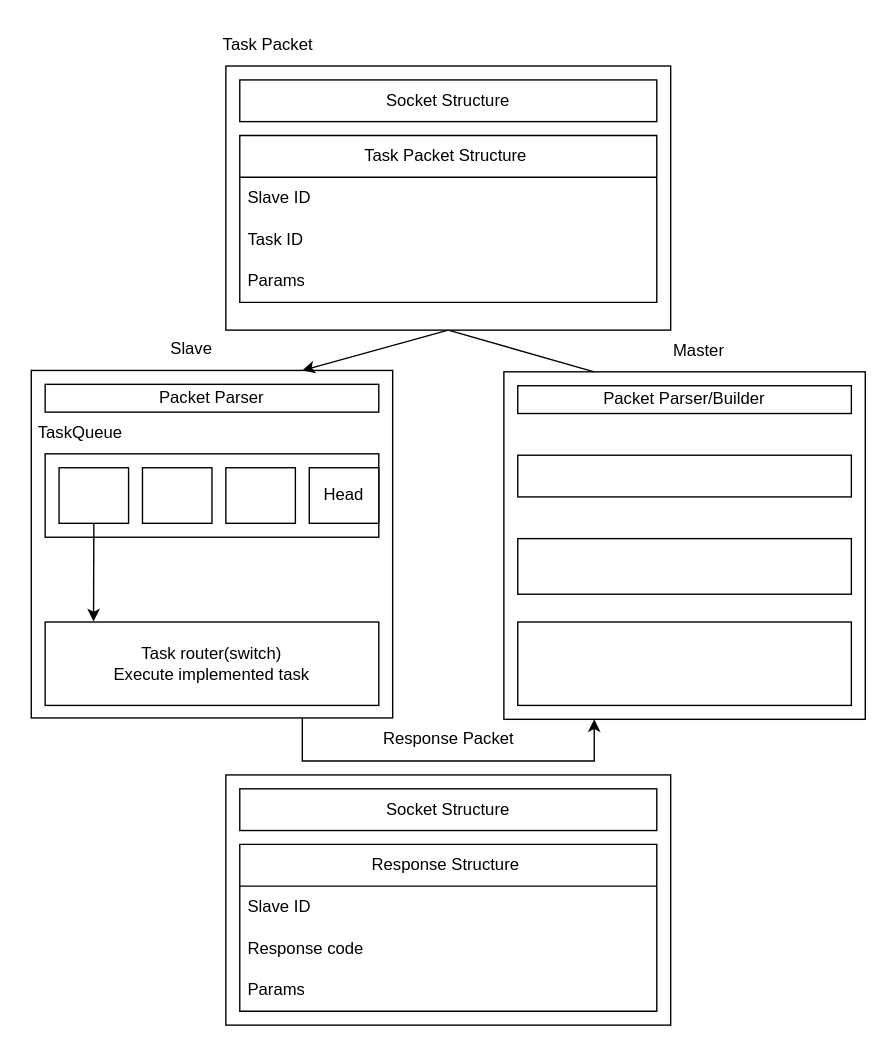
This 890x1049 diagram has some shape labels left out. The shapes that lost their labels are listed below. From the top down, each one's centre as x and y in pixels, then its label:
At pixel 93 494: "TaskId SlaveId Params".
At pixel 683 475: "Task builder".
At pixel 683 565: "Slave Tree".
At pixel 683 663: "Database (possible be in separated)".
